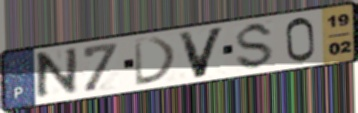0: (283, 16, 316, 64)
7: (80, 42, 122, 95)
D: (132, 35, 180, 88)
N: (33, 45, 79, 104)
S: (233, 20, 277, 72)
V: (175, 25, 228, 80)
